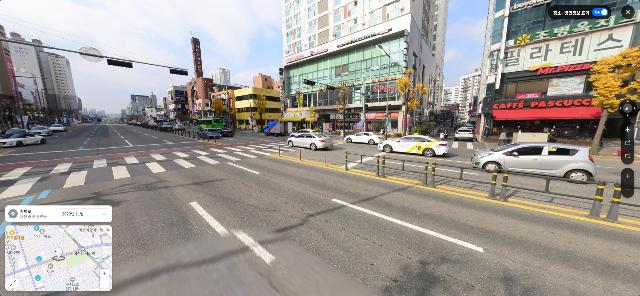ginkgo: (586, 46, 640, 154), (396, 68, 429, 137), (335, 81, 356, 139), (255, 96, 267, 133)
other: (211, 97, 226, 118)
